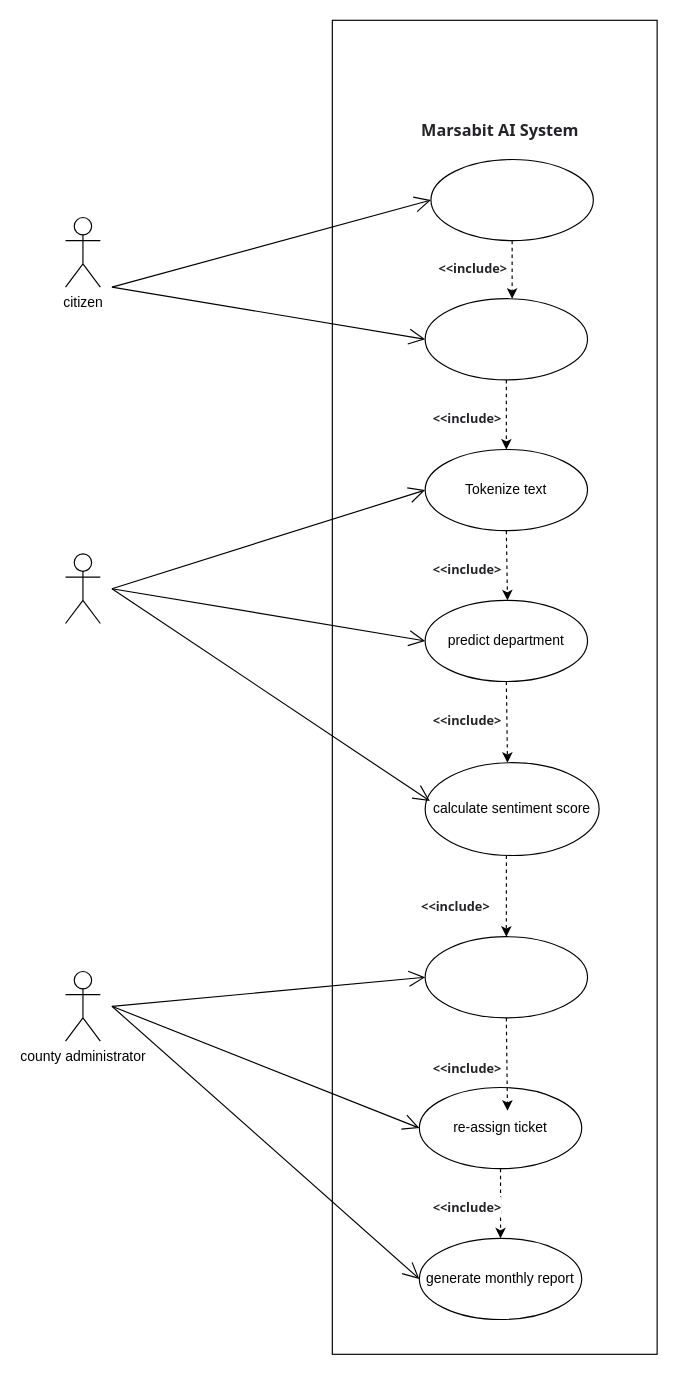
This 677x1375 diagram has some shape labels left out. The centre of each missing label's shape, as x and y in pixels:
submit complaint: the point at 511,199
system(AI engine): the point at 82,588
Track status: the point at 506,339
view global dashboard: the point at 506,977
